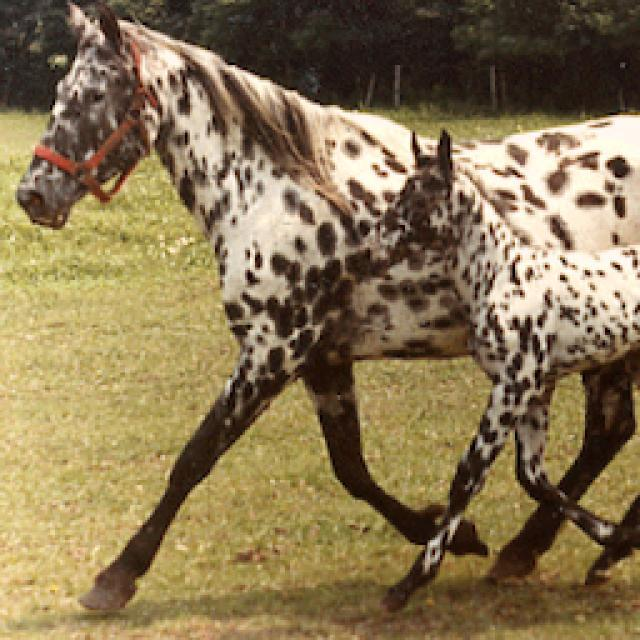Horse: (5, 0, 638, 620)
